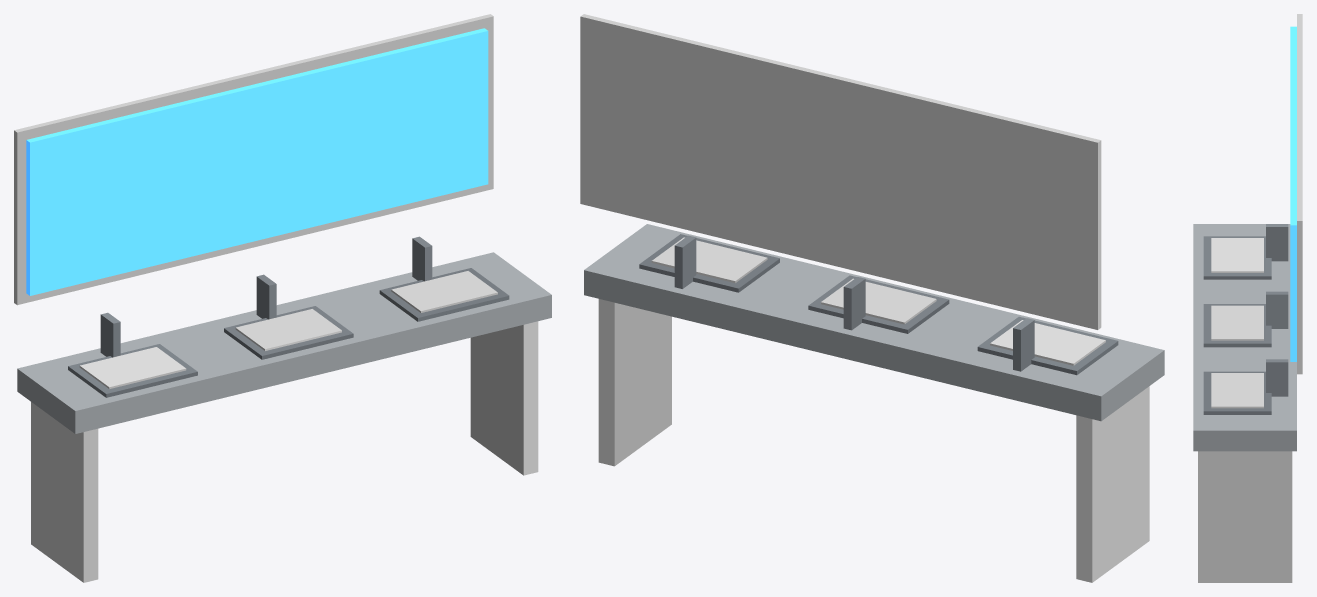
Rendered from Sink_Row.fbx.
The picture shows the model from 3 angles, left to right: view 1: azimuth 30°, elevation 25°; view 2: azimuth 150°, elevation 25°; view 3: azimuth 270°, elevation 25°; orthographic projection. The views are drawn at different scales.
Parts seen in each view (by area): view 1: Sink_Row; view 2: Sink_Row; view 3: Sink_Row.
Part boxes in pixels (x1,y1,x2,y2): Sink_Row: [14, 14, 551, 582]; Sink_Row: [580, 14, 1164, 582]; Sink_Row: [1193, 14, 1302, 582].
Bounding box in the file's own units: 2.6 × 2.15 × 0.58.
